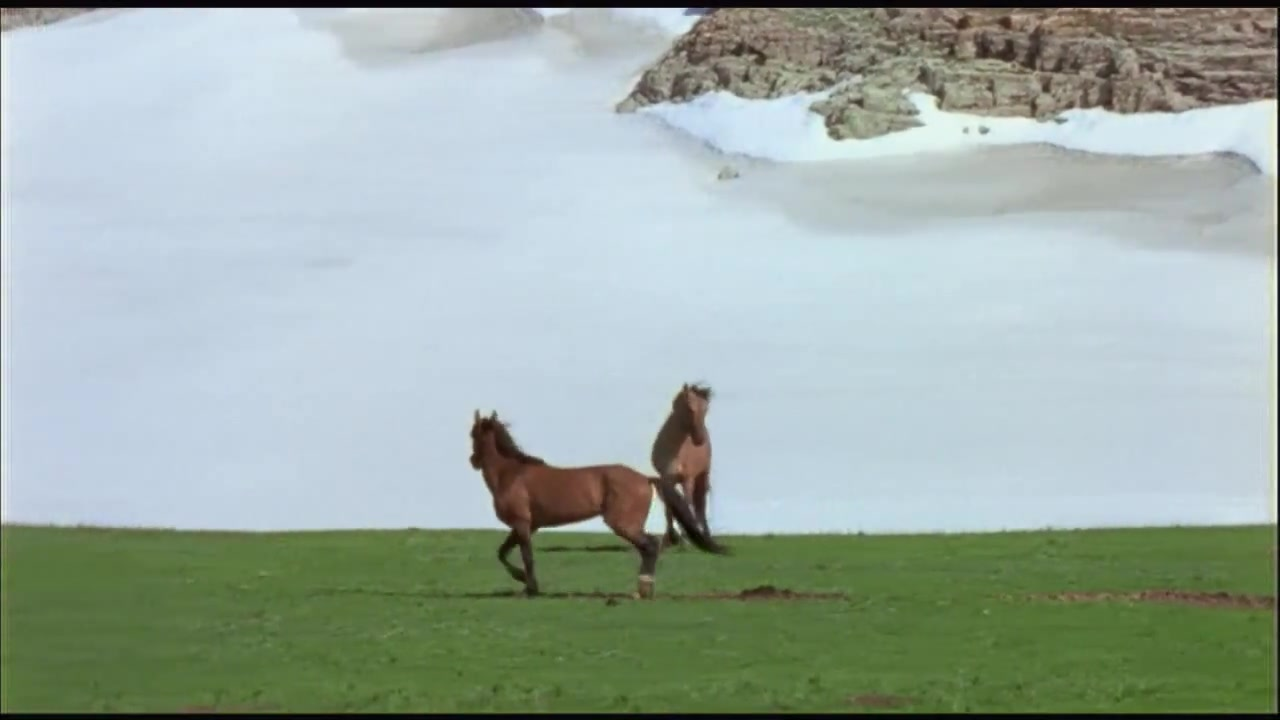horse: (469, 410, 736, 602)
